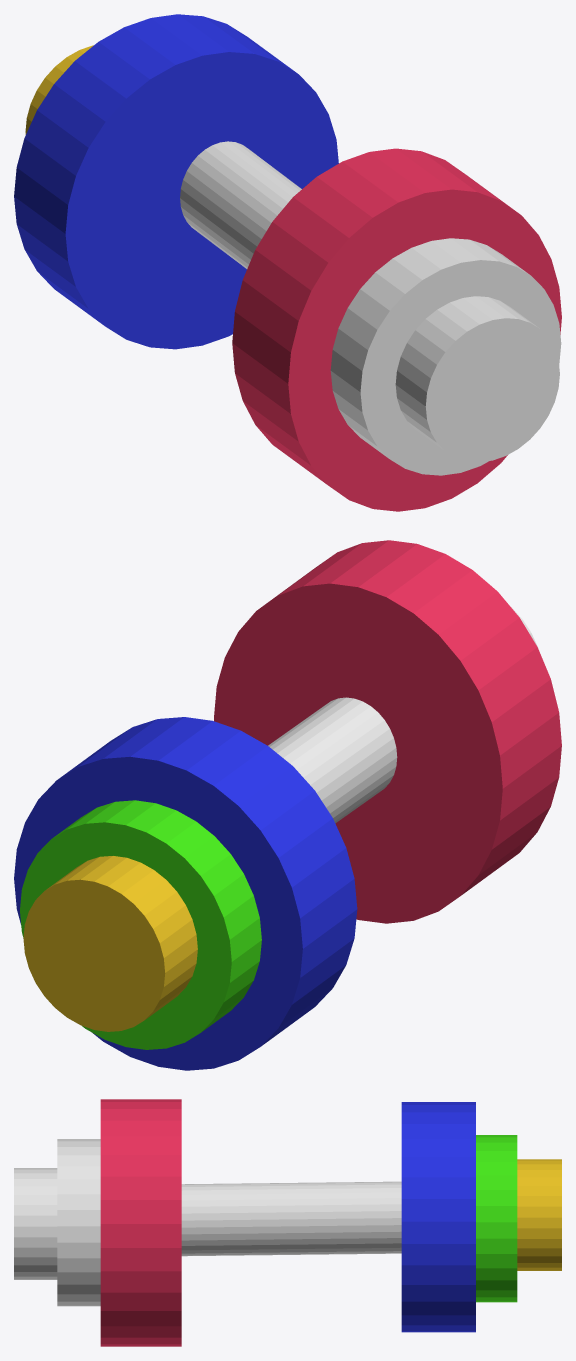
3 views of the same model, one above another, from view 1: azimuth 30°, elevation 25°; view 2: azimuth 150°, elevation 25°; view 3: azimuth 270°, elevation 25° (orthographic). The views are drawn at different scales.
Parts seen in each view (by area): view 1: Цилиндр.001, Цилиндр.003, Цилиндр.002, Цилиндр.005, Цилиндр, Цилиндр.006; view 2: Цилиндр.003, Цилиндр.001, Цилиндр.004, Цилиндр.006, Цилиндр; view 3: Цилиндр.003, Цилиндр.001, Цилиндр, Цилиндр.002, Цилиндр.004, Цилиндр.006, Цилиндр.005.
Part boxes in pixels (x1,y1,x2,y2): Цилиндр.001: (14,14,338,349); Цилиндр.003: (232,148,561,511); Цилиндр.002: (330,238,561,475); Цилиндр.005: (395,296,559,462); Цилиндр: (180,141,301,268); Цилиндр.006: (25,45,93,134); Цилиндр.003: (214,540,561,923); Цилиндр.001: (14,717,357,1070); Цилиндр.004: (20,800,261,1049); Цилиндр.006: (23,856,197,1031); Цилиндр: (268,697,397,823); Цилиндр.003: (100,1099,181,1346); Цилиндр.001: (401,1102,475,1332); Цилиндр: (181,1181,401,1256); Цилиндр.002: (57,1139,100,1306); Цилиндр.004: (476,1135,517,1302); Цилиндр.006: (517,1159,561,1270); Цилиндр.005: (14,1168,57,1279).
Bounding box in the file's own units: 3.31 × 3.46 × 7.56.
